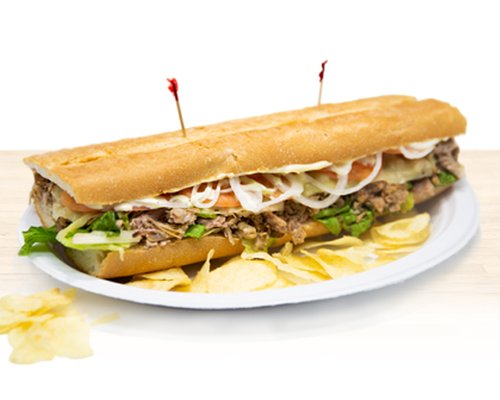soup: (27, 93, 473, 283)
